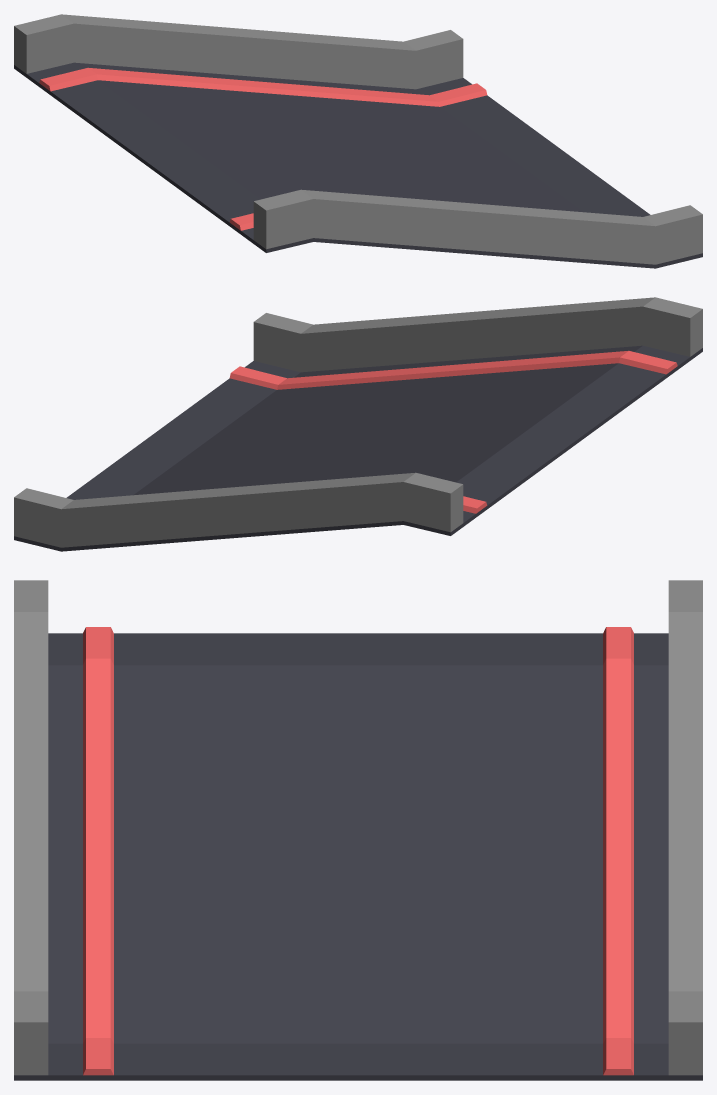
File: kartkids_base_trk_250_rmp_transition_flat_to_down_1x1_z2p5.glb
3 views of the same model, one above another, from view 1: azimuth 30°, elevation 25°; view 2: azimuth 150°, elevation 25°; view 3: azimuth 270°, elevation 25° (orthographic). The views are drawn at different scales.
Parts seen in each view (by area): view 1: kartkids_base_trk_010_rd_straight_1x1.071, kartkids_base_trk_020_trn_90_l_1x1.071; view 2: kartkids_base_trk_010_rd_straight_1x1.071, kartkids_base_trk_020_trn_90_l_1x1.071; view 3: kartkids_base_trk_010_rd_straight_1x1.071, kartkids_base_trk_020_trn_90_l_1x1.071.
Boxes of the visible parts, x1,y1,x2,y2 form: kartkids_base_trk_010_rd_straight_1x1.071: (14,62,702,268); kartkids_base_trk_020_trn_90_l_1x1.071: (14,14,702,264); kartkids_base_trk_010_rd_straight_1x1.071: (14,345,702,551); kartkids_base_trk_020_trn_90_l_1x1.071: (14,297,702,547); kartkids_base_trk_010_rd_straight_1x1.071: (14,627,702,1080); kartkids_base_trk_020_trn_90_l_1x1.071: (14,580,702,1075).
Bounding box in the file's own units: 10 × 3.35 × 10.
